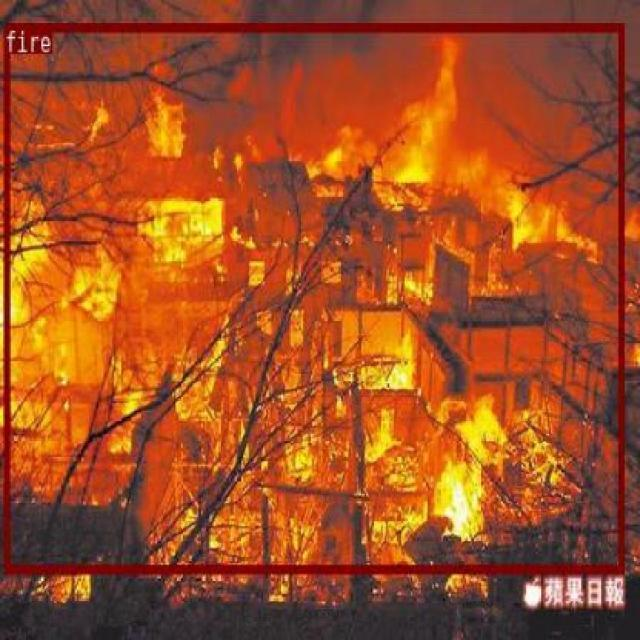Fire: (0, 47, 618, 575)
Smoke: (37, 0, 630, 262)
